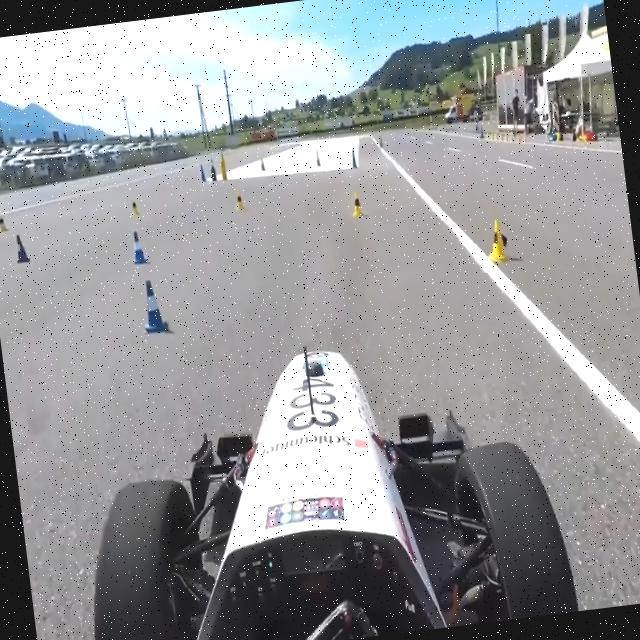blue_cone: (142, 276, 169, 326), (128, 223, 150, 264)
yellow_cone: (487, 216, 510, 264), (349, 192, 366, 218)
